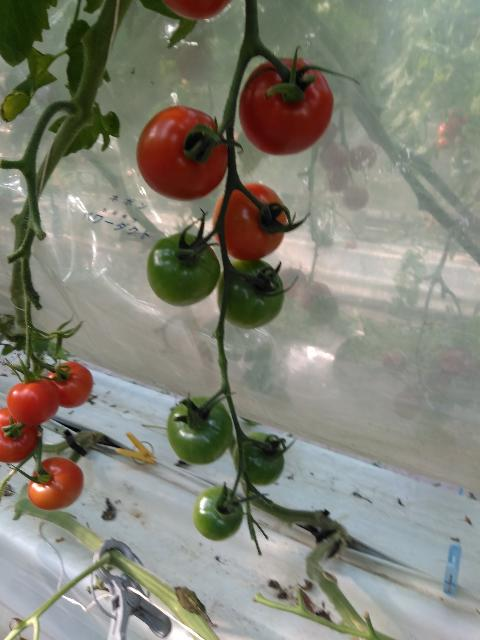l_fully_ripened: (238, 58, 335, 156), (135, 106, 229, 201), (212, 183, 287, 262), (7, 378, 61, 425), (45, 361, 93, 409), (0, 407, 37, 463), (162, 0, 231, 19)
l_green: (147, 232, 221, 307), (217, 259, 284, 330), (166, 396, 233, 466), (233, 432, 285, 486), (193, 485, 243, 541)
l_half_ripened: (27, 457, 85, 511)
